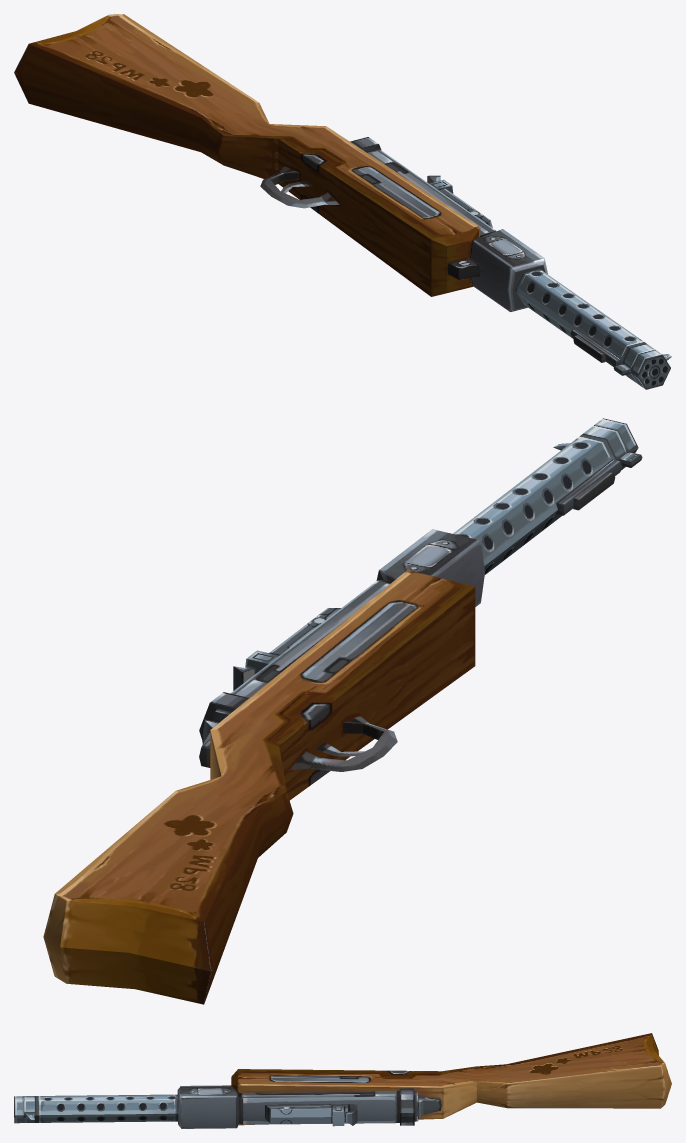
The picture shows the model from 3 angles, top to bottom: view 1: azimuth 30°, elevation 25°; view 2: azimuth 150°, elevation 25°; view 3: azimuth 270°, elevation 25°; orthographic projection. The views are drawn at different scales.
Visible parts, largest first — view 1: Pweapon; view 2: Pweapon; view 3: Pweapon.
Part boxes in pixels (bbox=[...]): Pweapon: bbox=[14, 14, 671, 389]; Pweapon: bbox=[43, 418, 642, 1004]; Pweapon: bbox=[14, 1033, 671, 1128].
Size of the model in its own units: 24.98 by 100 by 6.98.
Materials: 1 (1 with a texture image).
